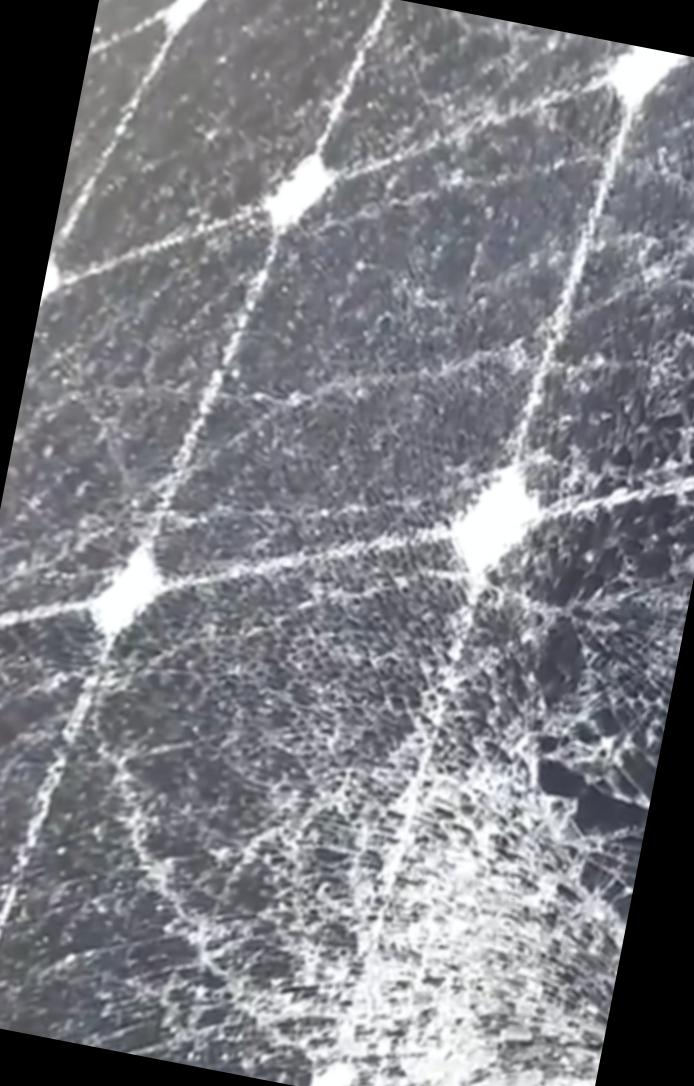Crack: (209, 619, 668, 1085)
